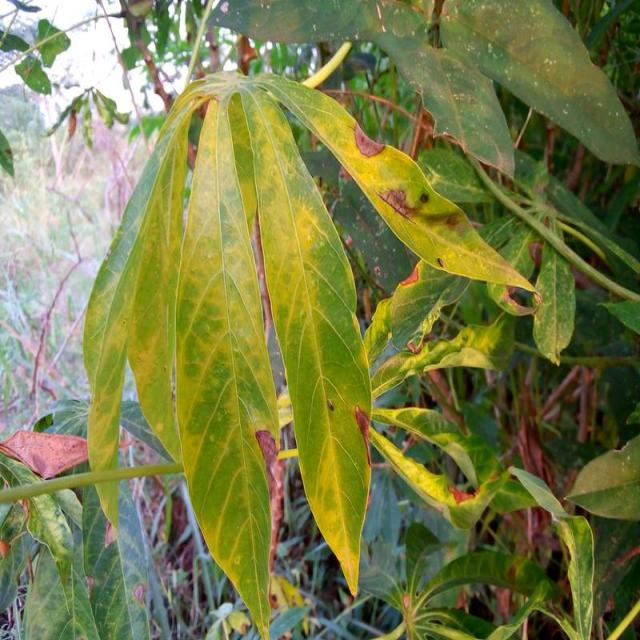cassava leaf: (82, 65, 542, 637)
